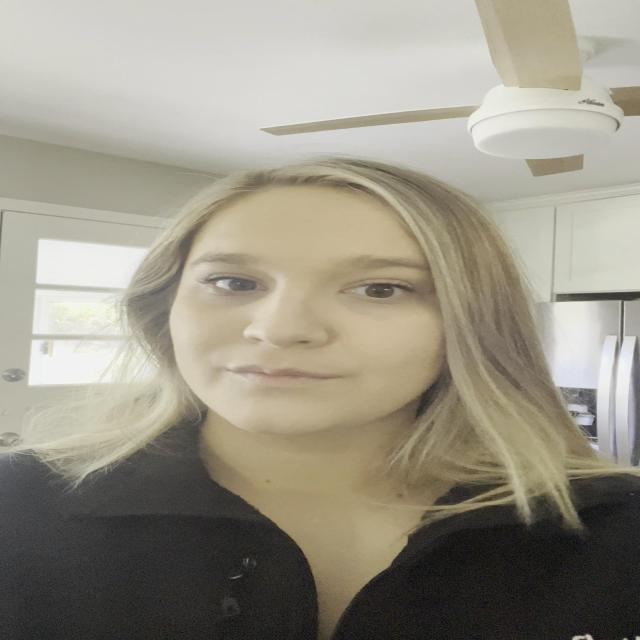no-helmet: (145, 174, 503, 460)
